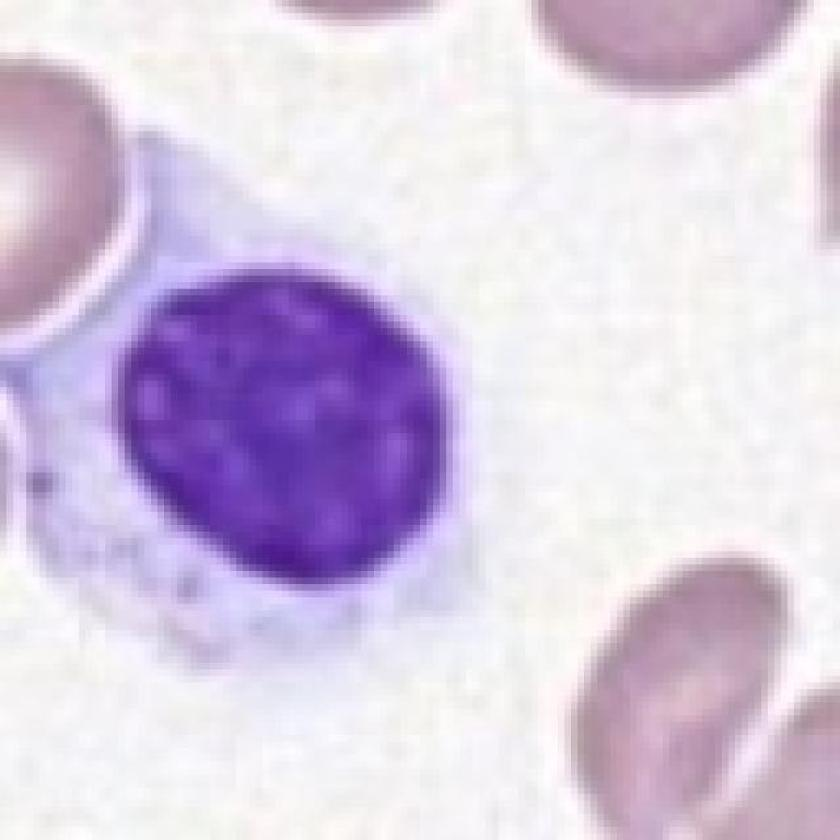lymphocyte: (14, 110, 505, 670)
